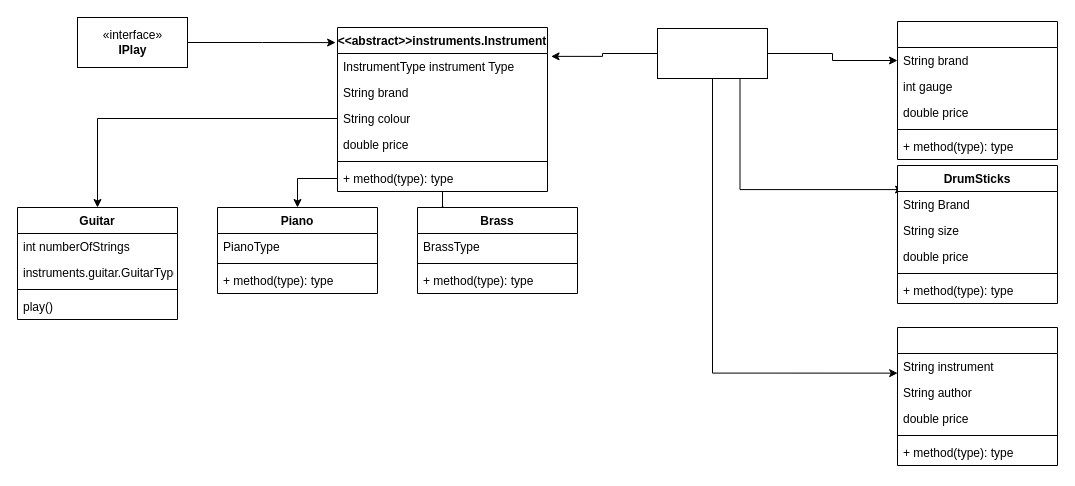
Image size: 1075x486. Some labels were removed from this diagram. Here are the shapes that lost their labels. From the top down, the box of each, then its label:
(656, 28, 768, 78): «interface» ISell
(896, 20, 1058, 160): GuitarStrings
(896, 326, 1058, 466): SheetMusic
